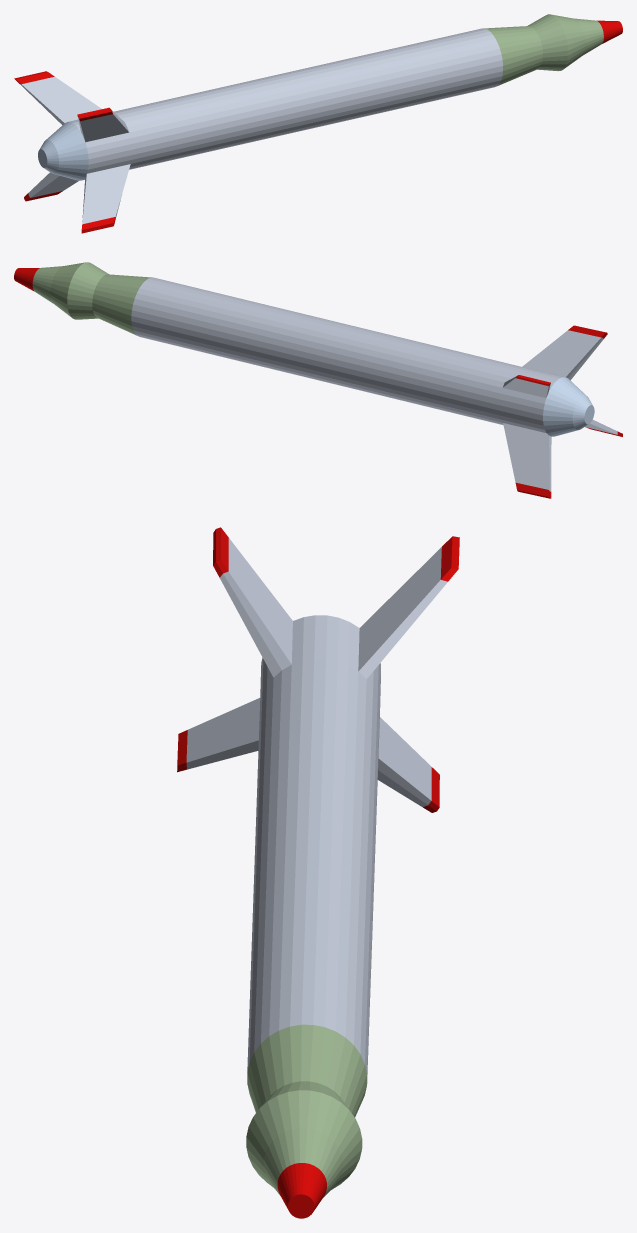
The model's file is Missile.glb.
The picture shows the model from 3 angles, top to bottom: view 1: azimuth 30°, elevation 25°; view 2: azimuth 150°, elevation 25°; view 3: azimuth 270°, elevation 25°; orthographic projection. The views are drawn at different scales.
Visible parts, largest first — view 1: Cylinder.001; view 2: Cylinder.001; view 3: Cylinder.001.
Boxes of the visible parts, <box> form: Cylinder.001: <box>14,14,622,233</box>; Cylinder.001: <box>14,262,622,498</box>; Cylinder.001: <box>177,527,459,1218</box>.
Size of the model in its own units: 0.8039 by 0.1702 by 0.172.
